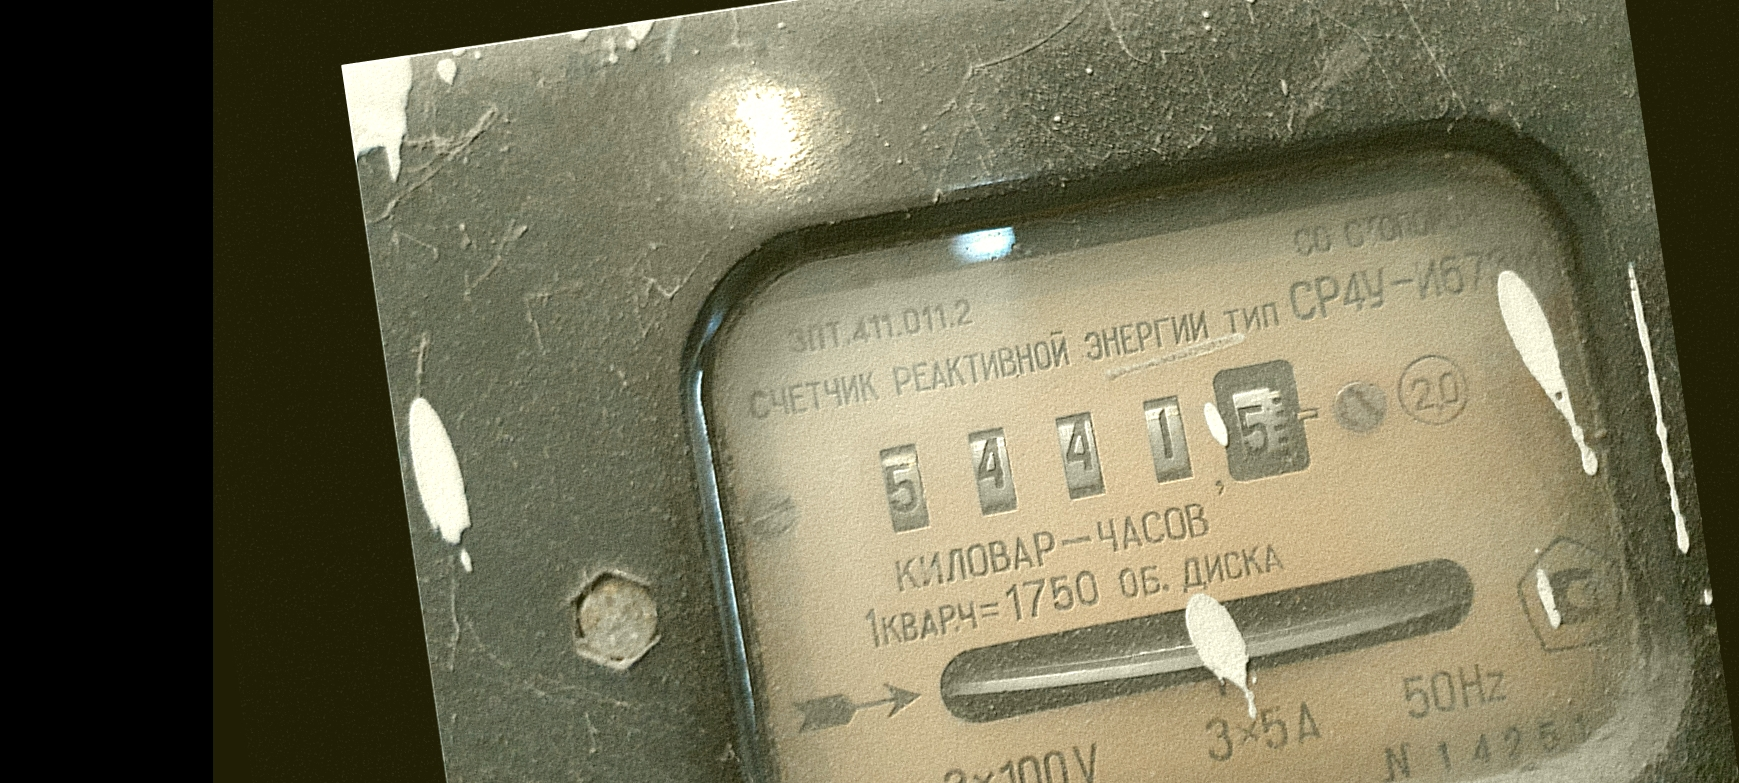1: (1150, 404, 1182, 465)
4: (1056, 411, 1102, 482), (970, 430, 1013, 496)
5: (879, 457, 926, 519), (1234, 396, 1278, 462)
screen: (850, 332, 1341, 565)
